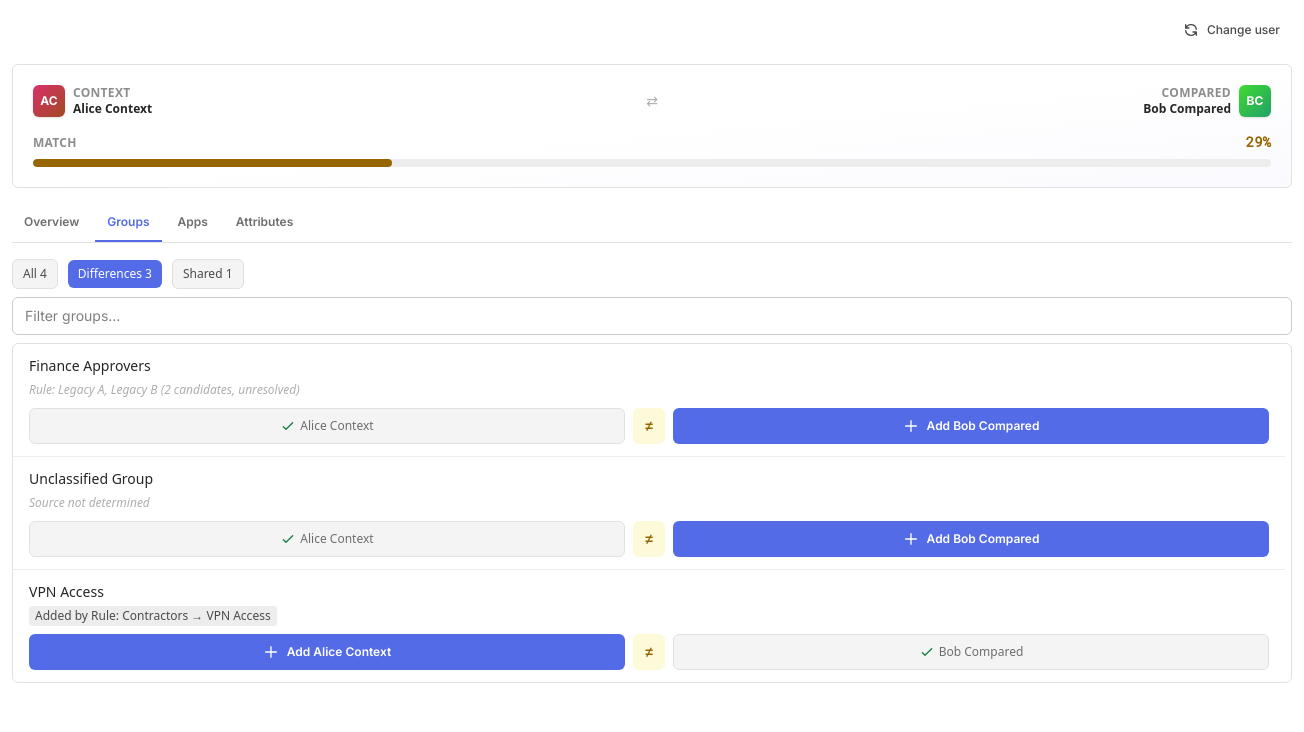
it: UserComparisonView — the groups tab says how a membership was granted › states no source on a shared row, whose membership is only one user’s
Click the button "All 4". click: (35, 274)
box: left=12, top=259, right=58, bottom=289
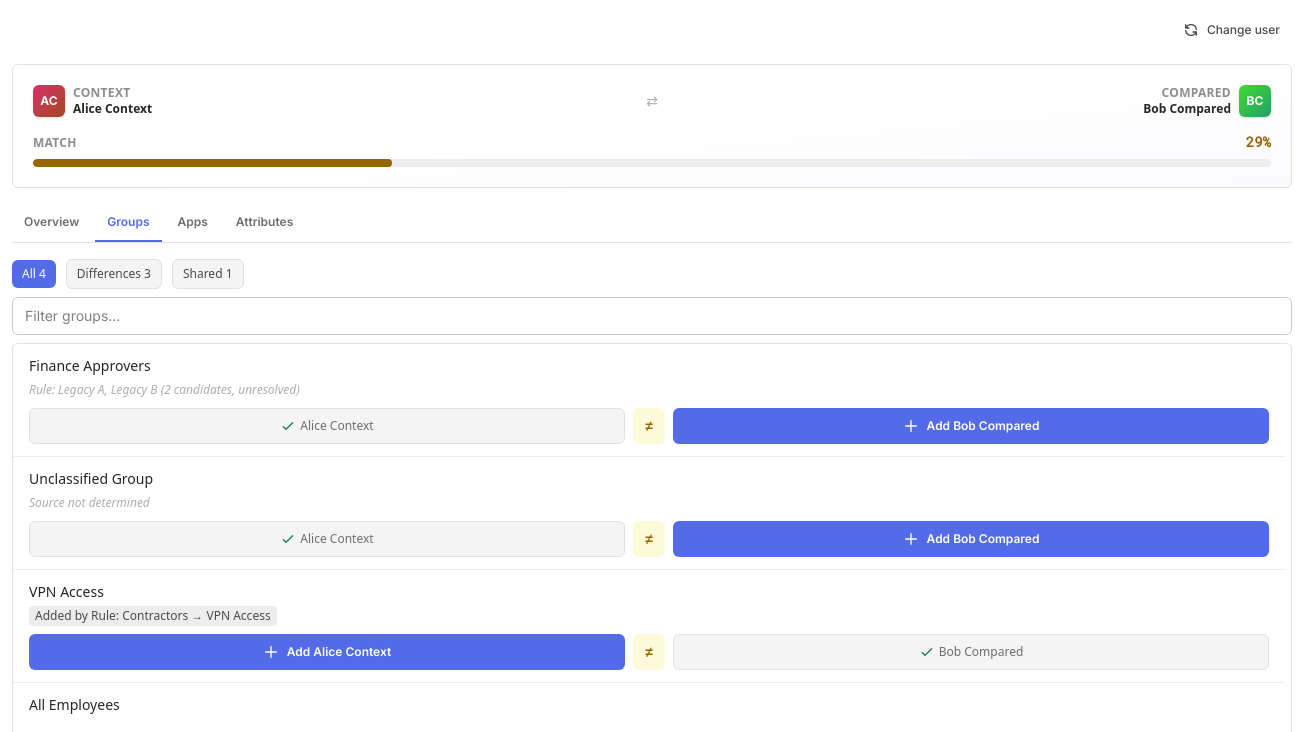
Check: the text titled "All Employees" is shown, box left=29, top=695, right=120, bottom=714
